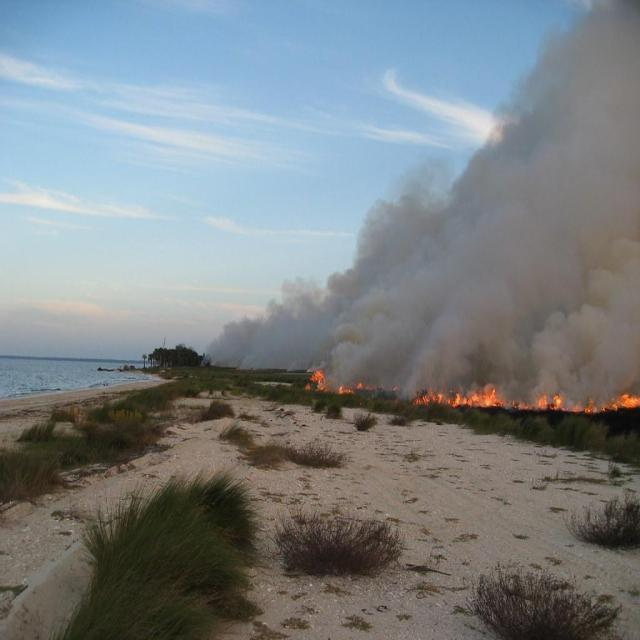Fire: (412, 386, 640, 414), (302, 368, 328, 392), (338, 379, 377, 395)
Smoke: (200, 0, 640, 413)
